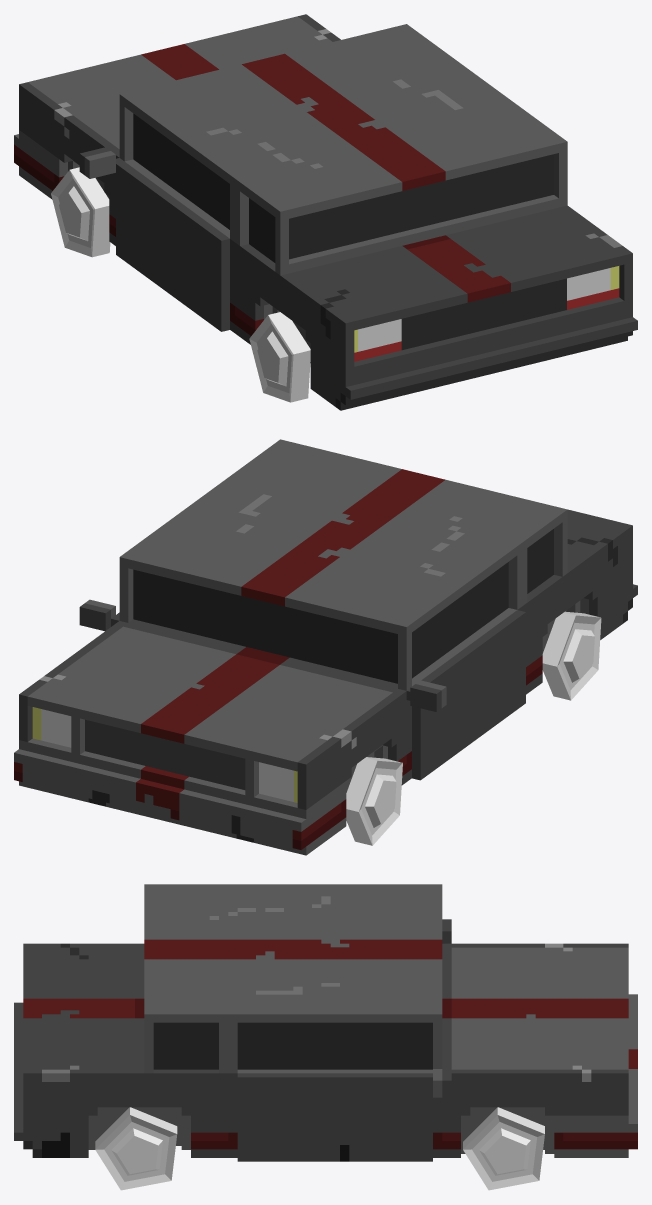
The model's file is DeathRace.fbx.
3 views of the same model, one above another, from view 1: azimuth 30°, elevation 25°; view 2: azimuth 150°, elevation 25°; view 3: azimuth 270°, elevation 25° (orthographic). The views are drawn at different scales.
Parts seen in each view (by area): view 1: CarBody, BackLeft, FrontLeft; view 2: CarBody, BackLeft, FrontLeft; view 3: CarBody, BackRight, FrontRight.
Part boxes in pixels (bbox=[...]): CarBody: bbox=[14, 14, 637, 410]; BackLeft: bbox=[249, 312, 310, 402]; FrontLeft: bbox=[51, 167, 110, 257]; CarBody: bbox=[14, 439, 637, 855]; BackLeft: bbox=[542, 611, 601, 700]; FrontLeft: bbox=[346, 757, 402, 845]; CarBody: bbox=[14, 884, 637, 1161]; BackRight: bbox=[95, 1107, 177, 1190]; FrontRight: bbox=[463, 1107, 544, 1190].
Size of the model in its own units: 410 by 202 by 670.
